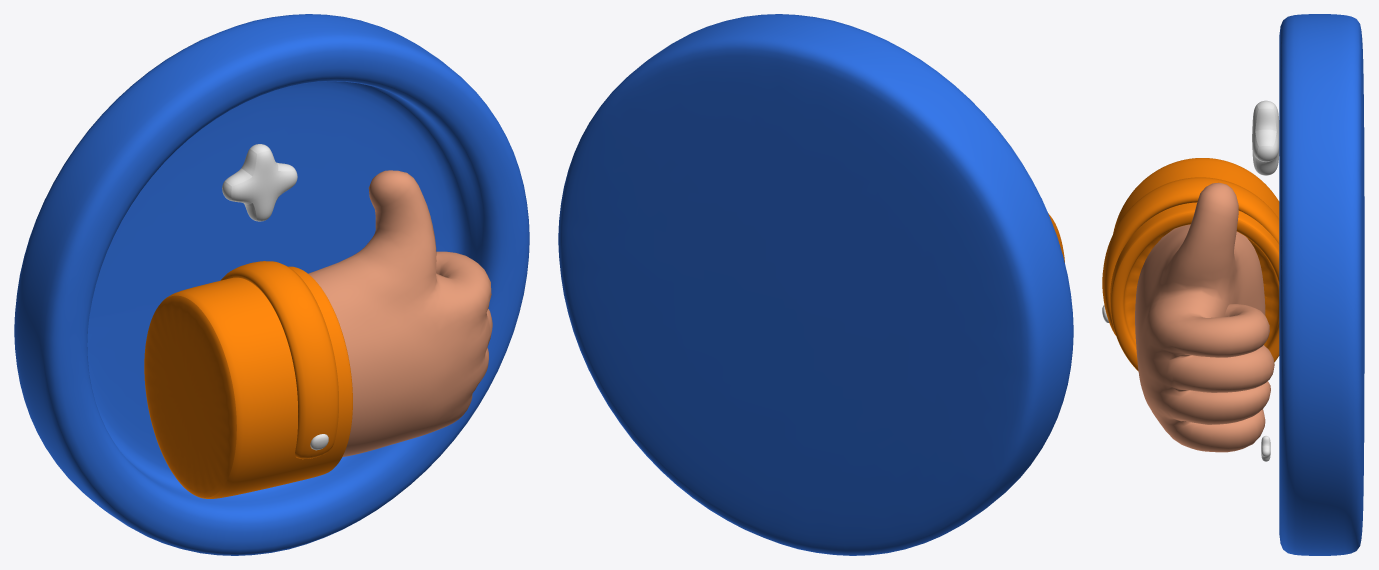
File: most-voted-animated-3d-icon-110178288344.glb
The picture shows the model from 3 angles, left to right: view 1: azimuth 30°, elevation 25°; view 2: azimuth 150°, elevation 25°; view 3: azimuth 270°, elevation 25°; orthographic projection. The views are drawn at different scales.
Parts seen in each view (by area): view 1: Retopo_Circle.001, Cylinder.009, Left Hand.004, Cylinder.010, Cube; view 2: Retopo_Circle.001; view 3: Retopo_Circle.001, Left Hand.004, Cylinder.009, Cylinder.010, Cube.
Part boxes in pixels (x1,y1,x2,y2): Retopo_Circle.001: (14, 14, 529, 555); Cylinder.009: (144, 266, 352, 498); Left Hand.004: (308, 170, 492, 457); Cylinder.010: (220, 261, 338, 459); Cube: (222, 144, 297, 221); Retopo_Circle.001: (558, 14, 1073, 555); Retopo_Circle.001: (1279, 14, 1364, 555); Left Hand.004: (1135, 182, 1274, 452); Cylinder.009: (1110, 158, 1279, 371); Cylinder.010: (1102, 177, 1279, 335); Cube: (1252, 100, 1279, 175).
Size of the model in its own units: 1.99 by 1.99 by 0.9614.
